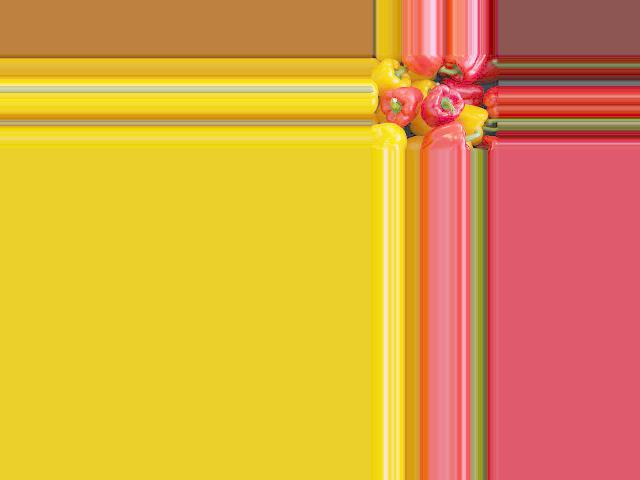bell_pepper: (371, 61, 407, 92)
